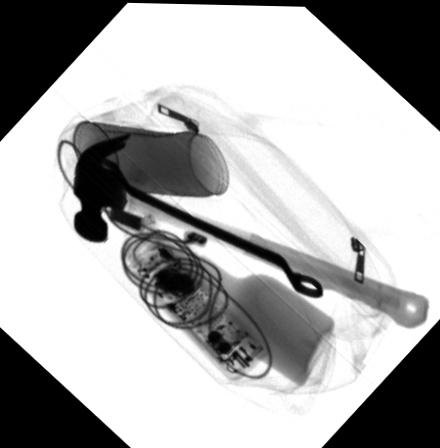Hammer: (72, 132, 428, 326)
Wrench: (95, 154, 323, 296)
